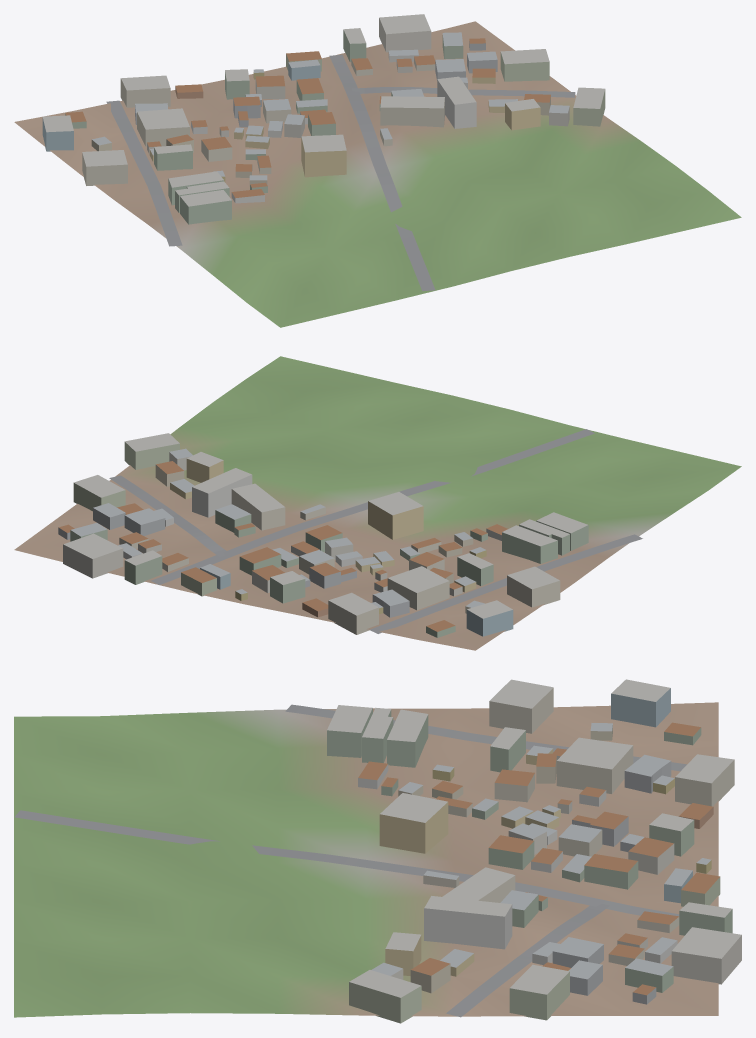
3 views of the same model, one above another, from view 1: azimuth 30°, elevation 25°; view 2: azimuth 150°, elevation 25°; view 3: azimuth 270°, elevation 25° (orthographic). The views are drawn at different scales.
Parts seen in each view (by area): view 1: Lo; view 2: Lo; view 3: Lo.
Boxes of the visible parts, x1,y1,x2,y2 form: Lo: [14, 14, 741, 327]; Lo: [14, 356, 741, 650]; Lo: [14, 679, 741, 1023].
Size of the model in its own units: 265 by 15.5 by 264.
